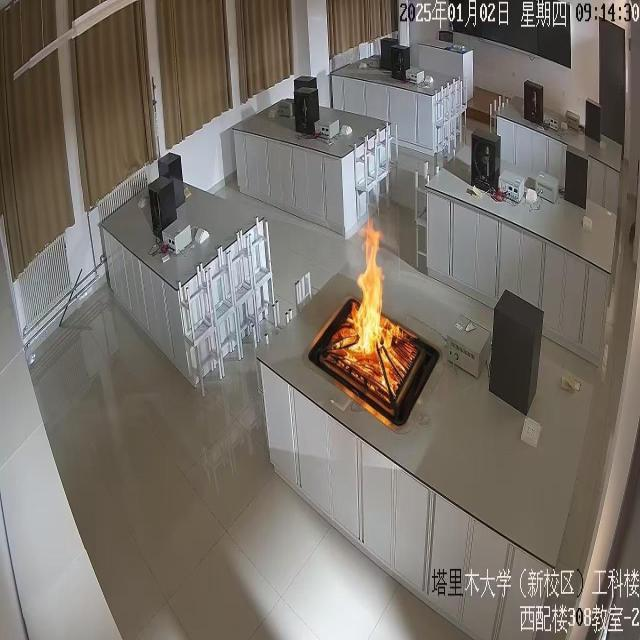smoke: (344, 212, 404, 378)
